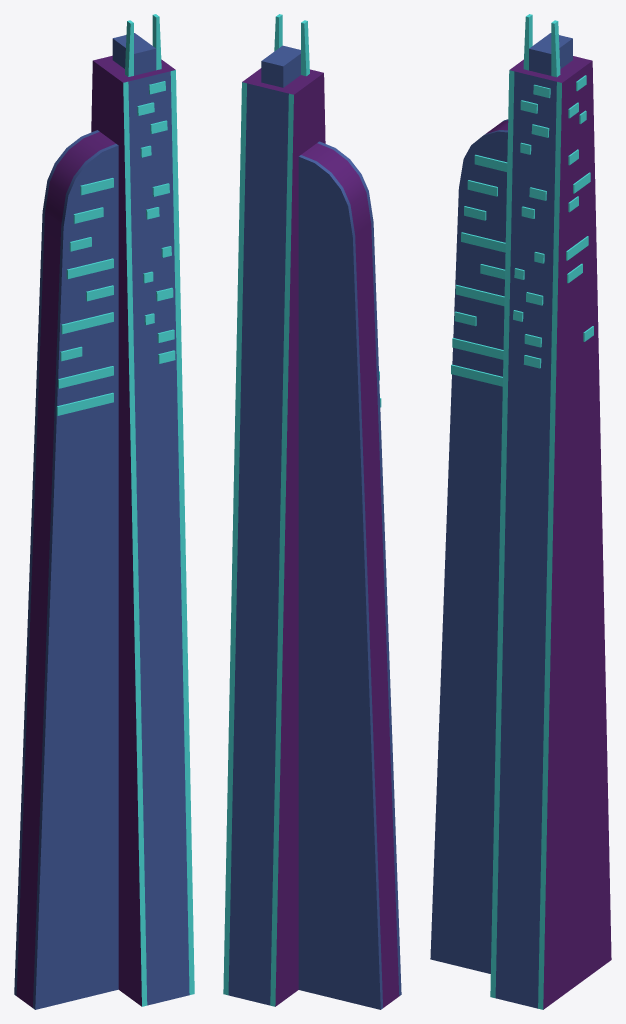
The model's file is Build_sci_fi_2.fbx.
3 renders of one model, left to right at view 1: azimuth 30°, elevation 25°; view 2: azimuth 150°, elevation 25°; view 3: azimuth 330°, elevation 25°, orthographic.
Visible parts, largest first — view 1: Build_sci_fi_2; view 2: Build_sci_fi_2; view 3: Build_sci_fi_2.
Part boxes in pixels (x1=…): Build_sci_fi_2: x1=14, y1=14, x2=194, y2=1009; Build_sci_fi_2: x1=223, y1=14, x2=401, y2=1009; Build_sci_fi_2: x1=430, y1=14, x2=611, y2=1009.
Size of the model in its own units: 145 by 973 by 125.
